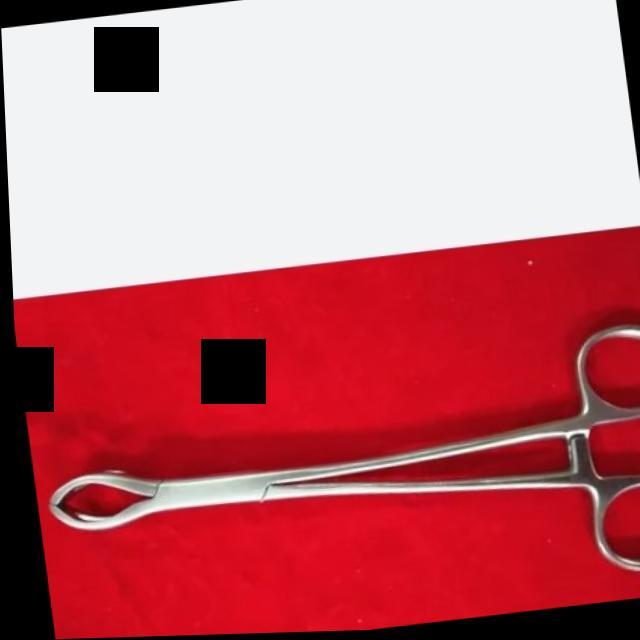Babcock Forceps: (17, 323, 640, 640)
